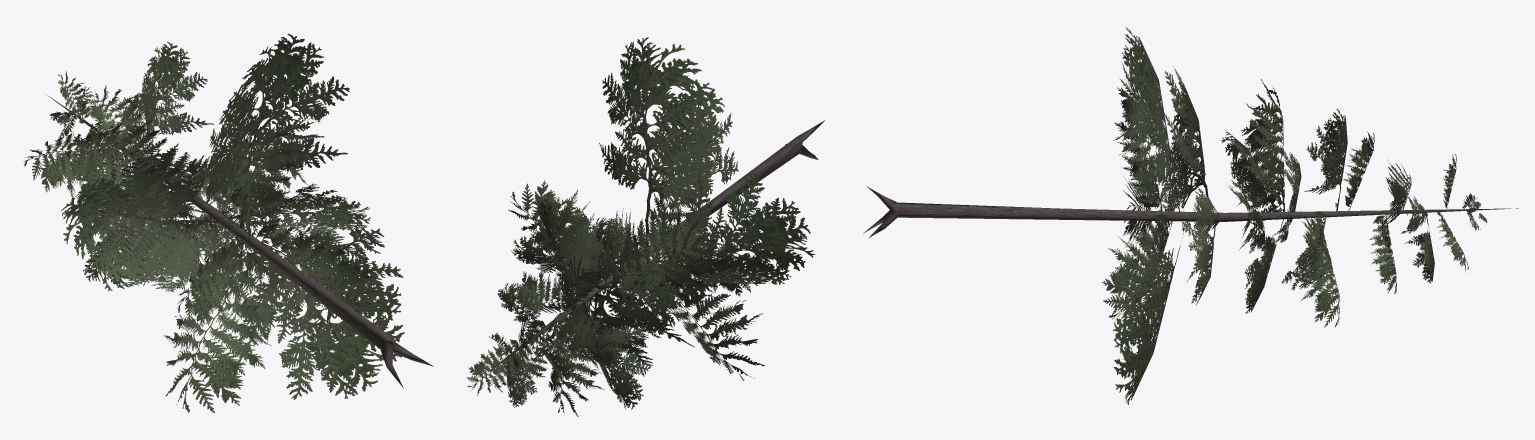
Rendered from Conif_03.fbx.
The picture shows the model from 3 angles, left to right: view 1: azimuth 30°, elevation 25°; view 2: azimuth 150°, elevation 25°; view 3: azimuth 270°, elevation 25°; orthographic projection. The views are drawn at different scales.
Visible parts, largest first — view 1: conifer_03; view 2: conifer_03; view 3: conifer_03.
Boxes of the visible parts, <box> form: conifer_03: <box>23,33,433,412</box>; conifer_03: <box>466,37,825,416</box>; conifer_03: <box>863,27,1518,404</box>.
Bounding box in the file's own units: 8.55 × 9.33 × 15.12.
